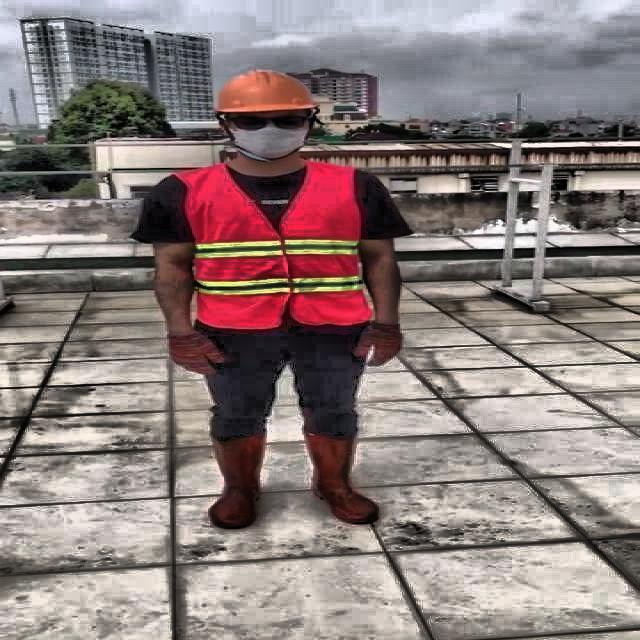safety_helmet: (212, 70, 324, 116)
safety_jacket: (180, 168, 364, 327)
